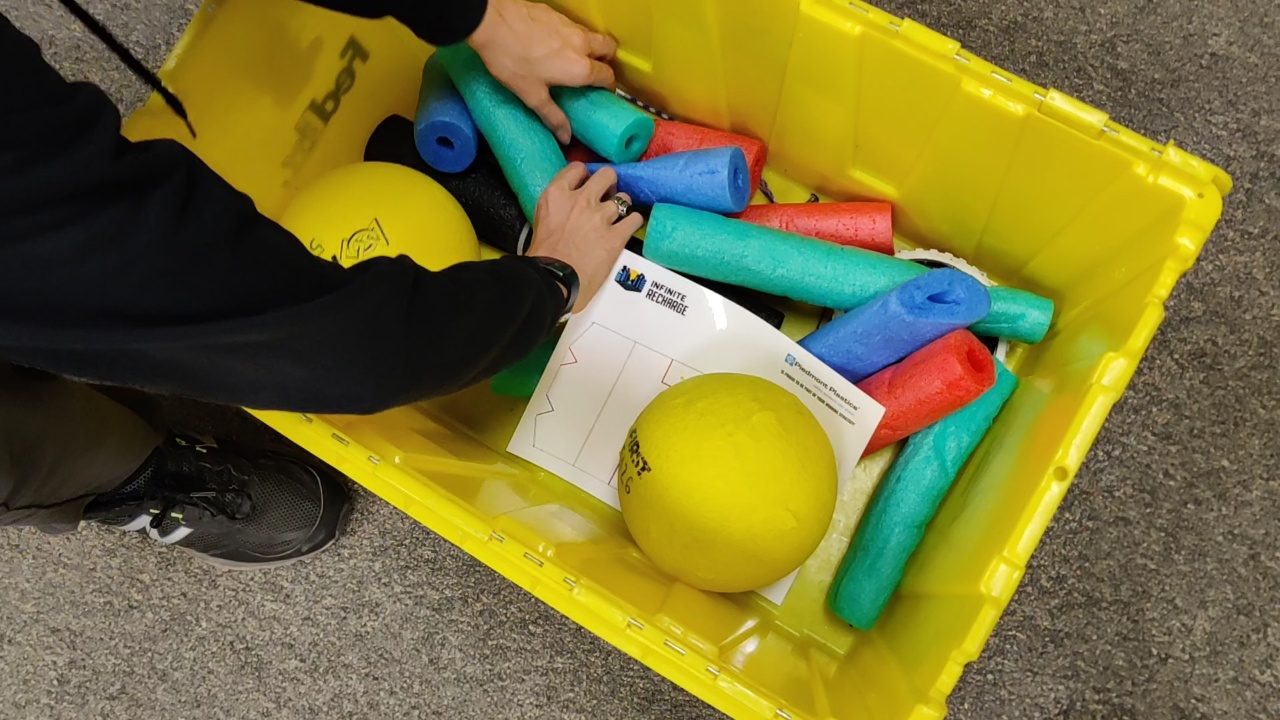Ball: (619, 374, 838, 593), (277, 163, 476, 267)
